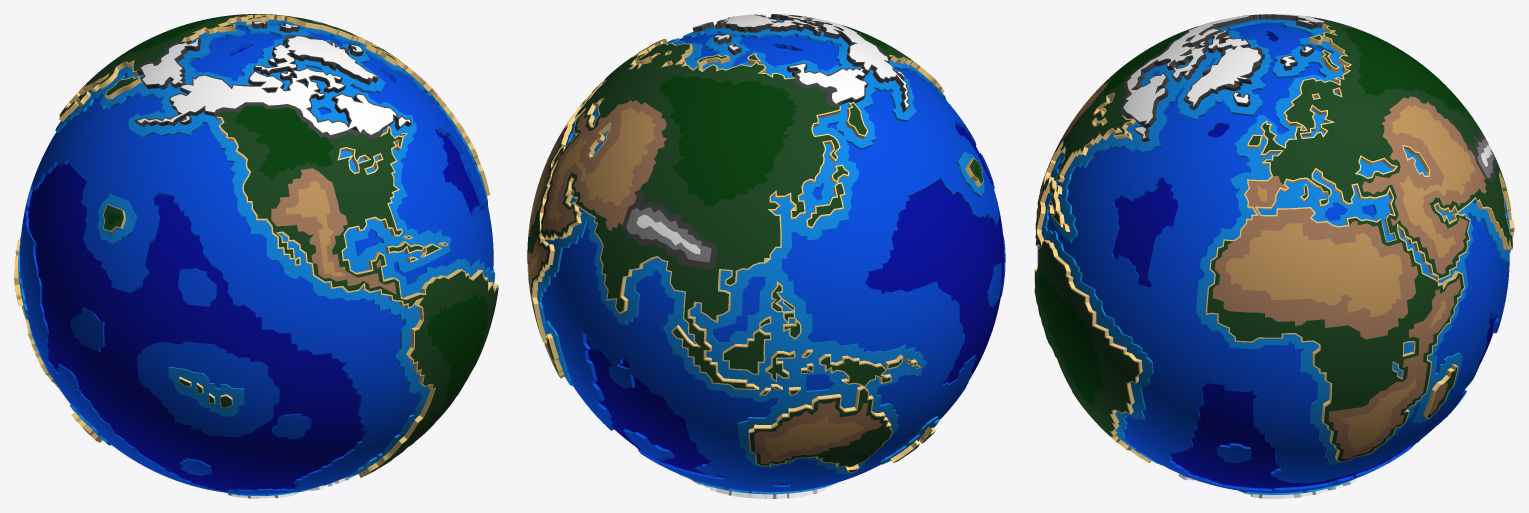
Rendered from uploads_files_2883006_Lowpoly+Earth.fbx.
3 renders of one model, left to right at view 1: azimuth 30°, elevation 25°; view 2: azimuth 150°, elevation 25°; view 3: azimuth 270°, elevation 25°, orthographic.
Parts seen in each view (by area): view 1: Earth; view 2: Earth; view 3: Earth.
Boxes of the visible parts, bbox=[...] form: Earth: bbox=[14, 14, 498, 498]; Earth: bbox=[527, 14, 1005, 498]; Earth: bbox=[1034, 14, 1514, 498].
Bounding box in the file's own units: 10009 × 10169 × 10079.
